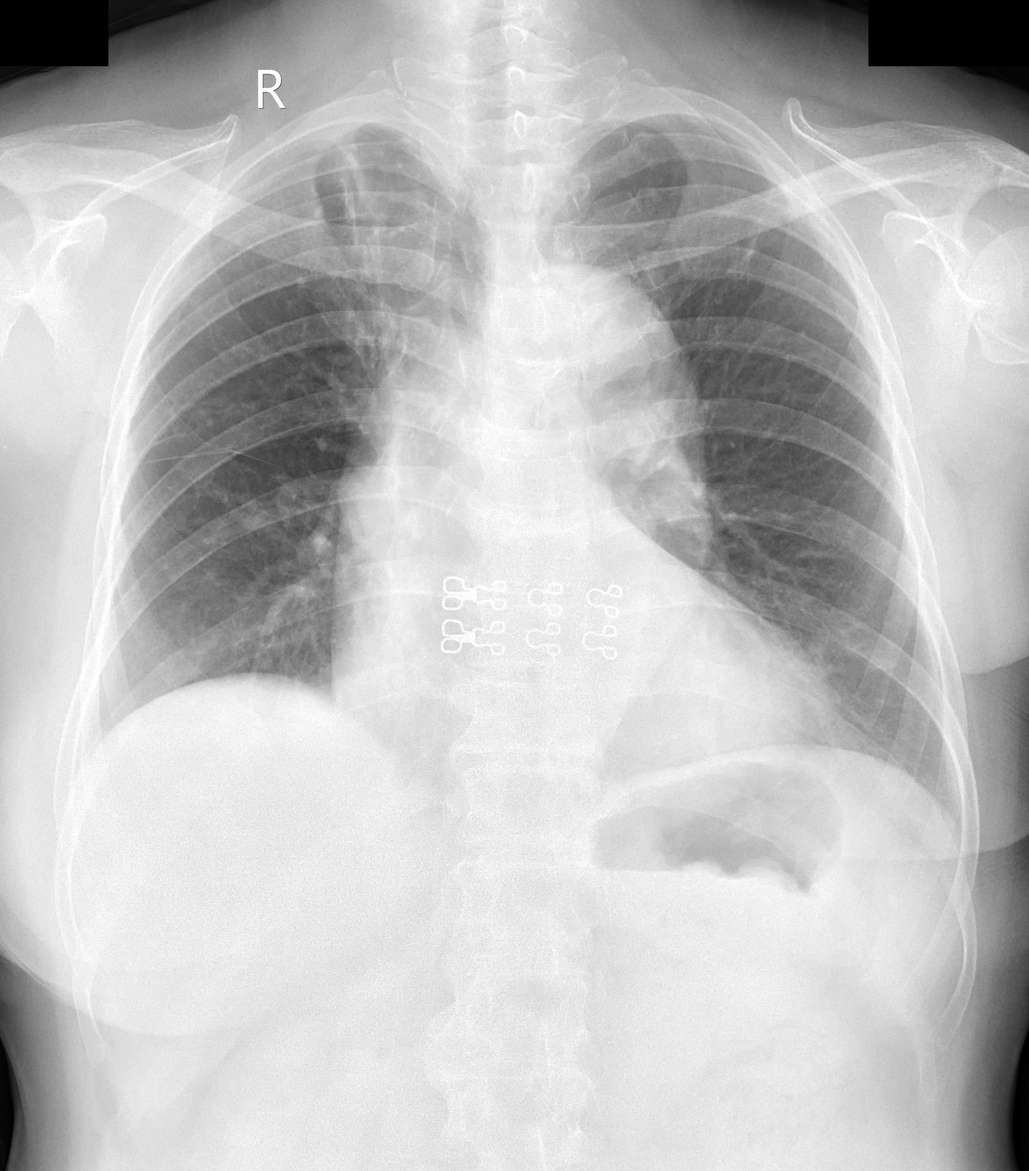Aortic enlargement: (500, 258, 709, 516)
Cardiomegaly: (326, 651, 851, 785)
Pleural thickening: (266, 120, 446, 159)
Pulmonary fibrosis: (333, 144, 398, 361)
